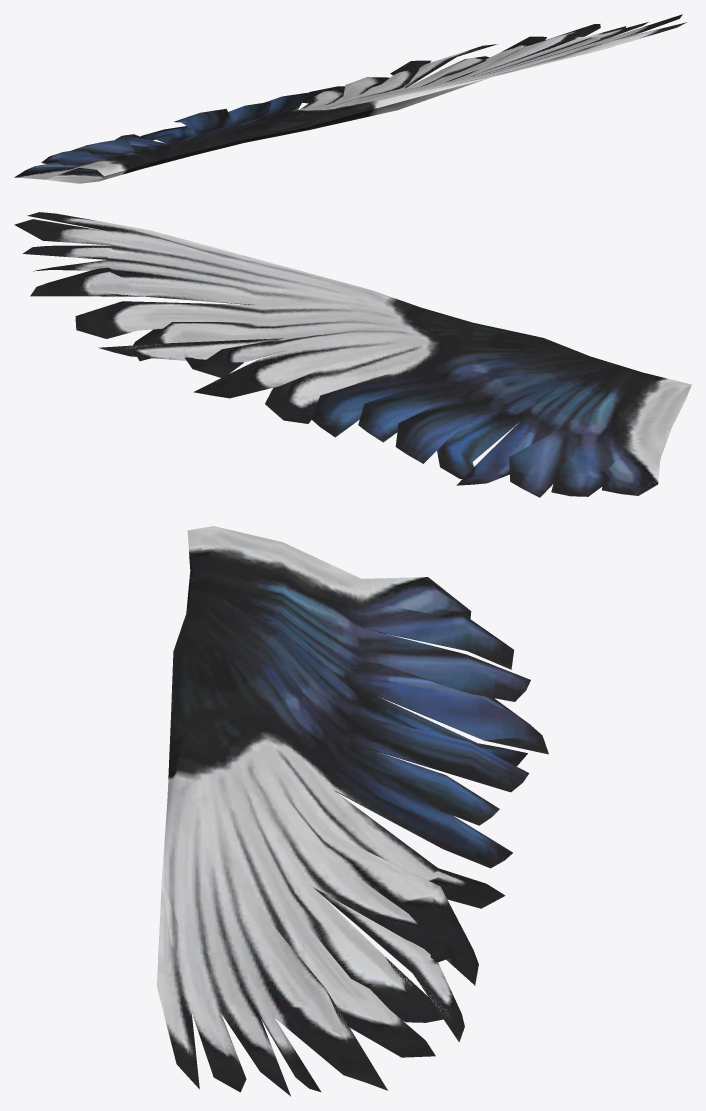
File: Ala_Izquierda_Pajaro.obj
3 views of the same model, one above another, from view 1: azimuth 30°, elevation 25°; view 2: azimuth 150°, elevation 25°; view 3: azimuth 270°, elevation 25° (orthographic). The views are drawn at different scales.
Parts seen in each view (by area): view 1: polySurface41; view 2: polySurface41; view 3: polySurface41.
Part boxes in pixels (x1,y1,x2,y2): polySurface41: (14,14,686,183); polySurface41: (14,212,691,497); polySurface41: (157,526,548,1096).
Bounding box in the file's own units: 0.3376 × 0.035 × 0.0922.
Materials: 1 (1 with a texture image).
